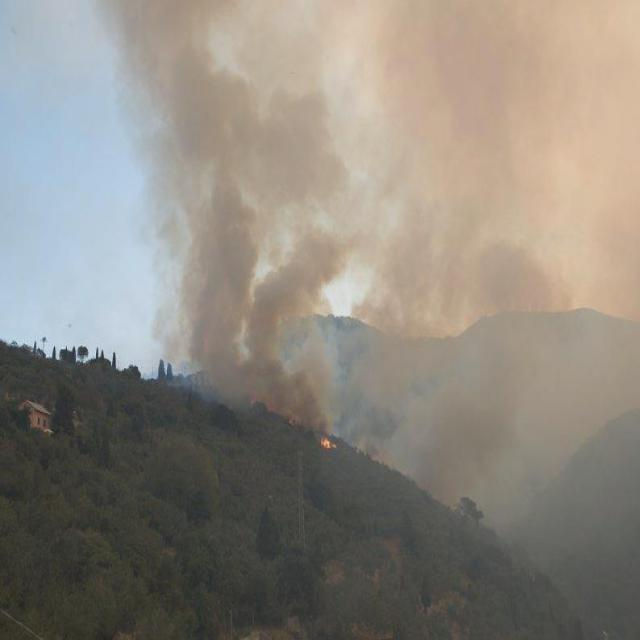Fire: (320, 434, 333, 449)
